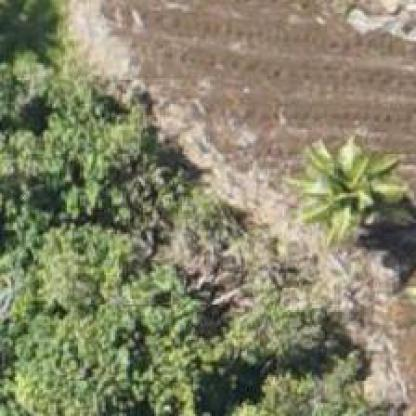coconut tree: (302, 141, 402, 239)
